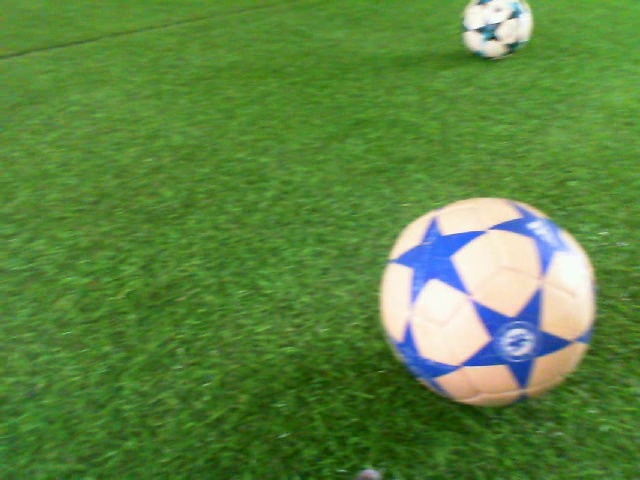ball: (375, 194, 599, 409), (459, 1, 535, 62)
